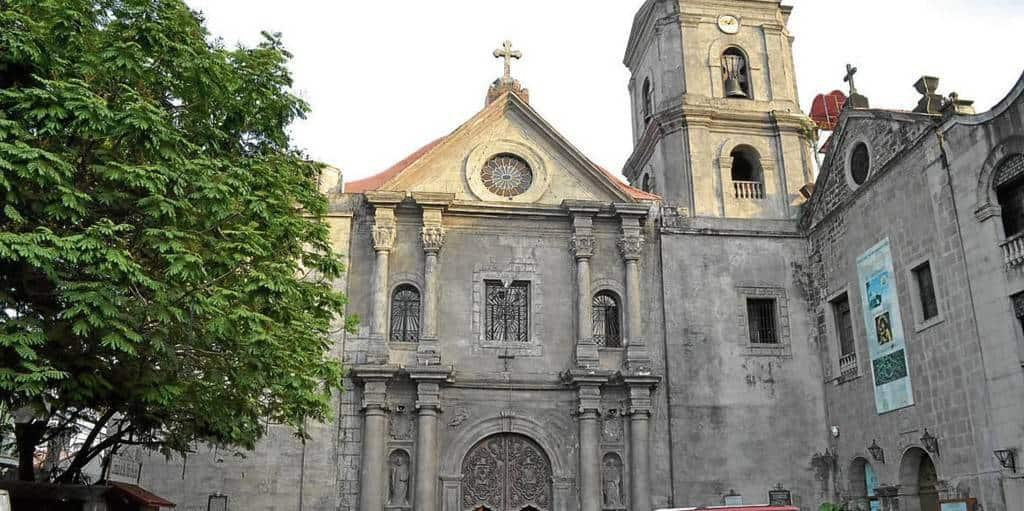san_agustin_church_intramuros_manila: (333, 1, 837, 511)
